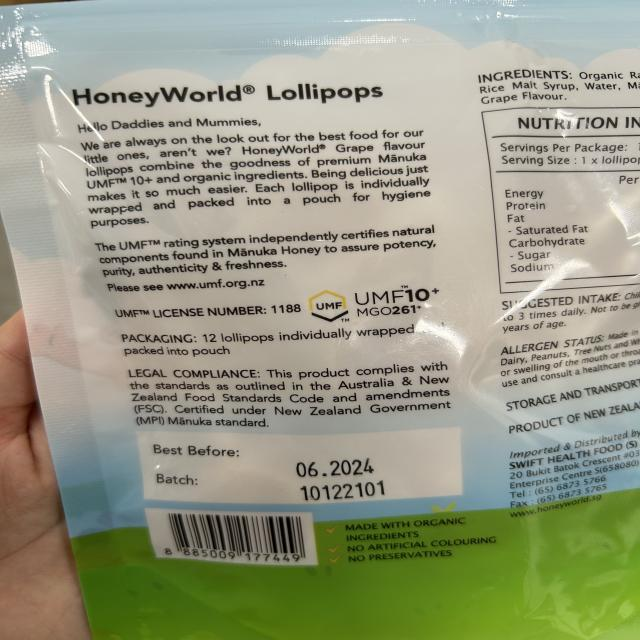object_name: (82, 6, 640, 638)
